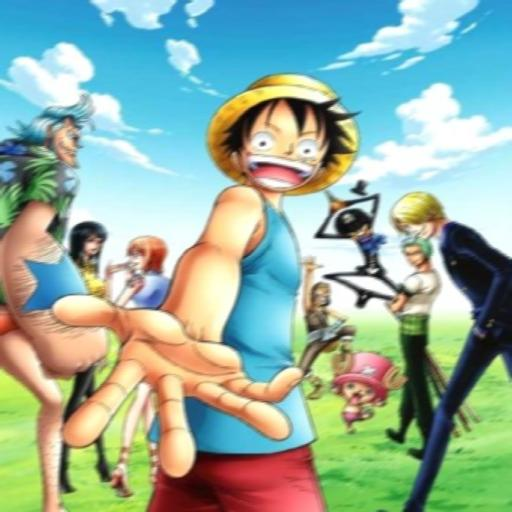Luffy: (209, 66, 355, 200)
Nami: (123, 235, 168, 279)
NicoRobin: (68, 212, 108, 269)
Usopp: (306, 277, 342, 313)
Zoro: (388, 236, 448, 270)
sanji: (392, 184, 474, 244)
